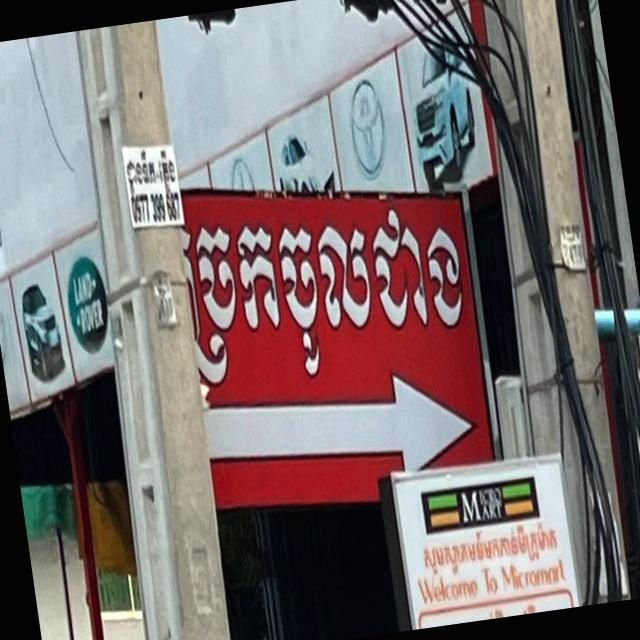Yolov11_80vkh: (180, 203, 470, 384), (420, 515, 561, 581)
